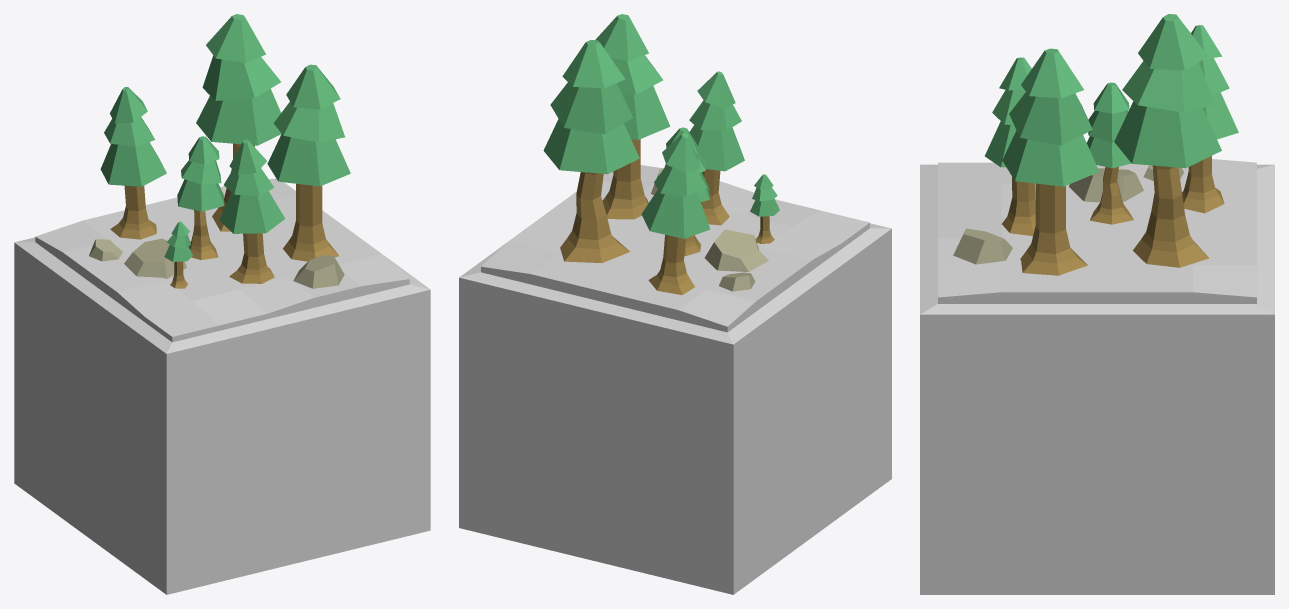
Rendered from tile_wood_4.fbx.
3 views of the same model, side by side, from view 1: azimuth 30°, elevation 25°; view 2: azimuth 150°, elevation 25°; view 3: azimuth 270°, elevation 25° (orthographic). The views are drawn at different scales.
Parts seen in each view (by area): view 1: Tile, Tree_5_Bottom.001, Ground; view 2: Tile, Tree_5_Bottom.001, Ground; view 3: Tile, Tree_5_Bottom.001, Ground.
Boxes of the visible parts, x1,y1,x2,y2 form: Tile: [14, 178, 430, 594]; Tree_5_Bottom.001: [89, 14, 350, 288]; Ground: [35, 178, 409, 342]; Tile: [459, 191, 891, 594]; Tree_5_Bottom.001: [543, 14, 779, 294]; Ground: [481, 165, 869, 332]; Tile: [920, 164, 1274, 594]; Tree_5_Bottom.001: [953, 14, 1238, 275]; Ground: [938, 159, 1256, 303].
Bounding box in the file's own units: 0.04 × 0.0659 × 0.04.
